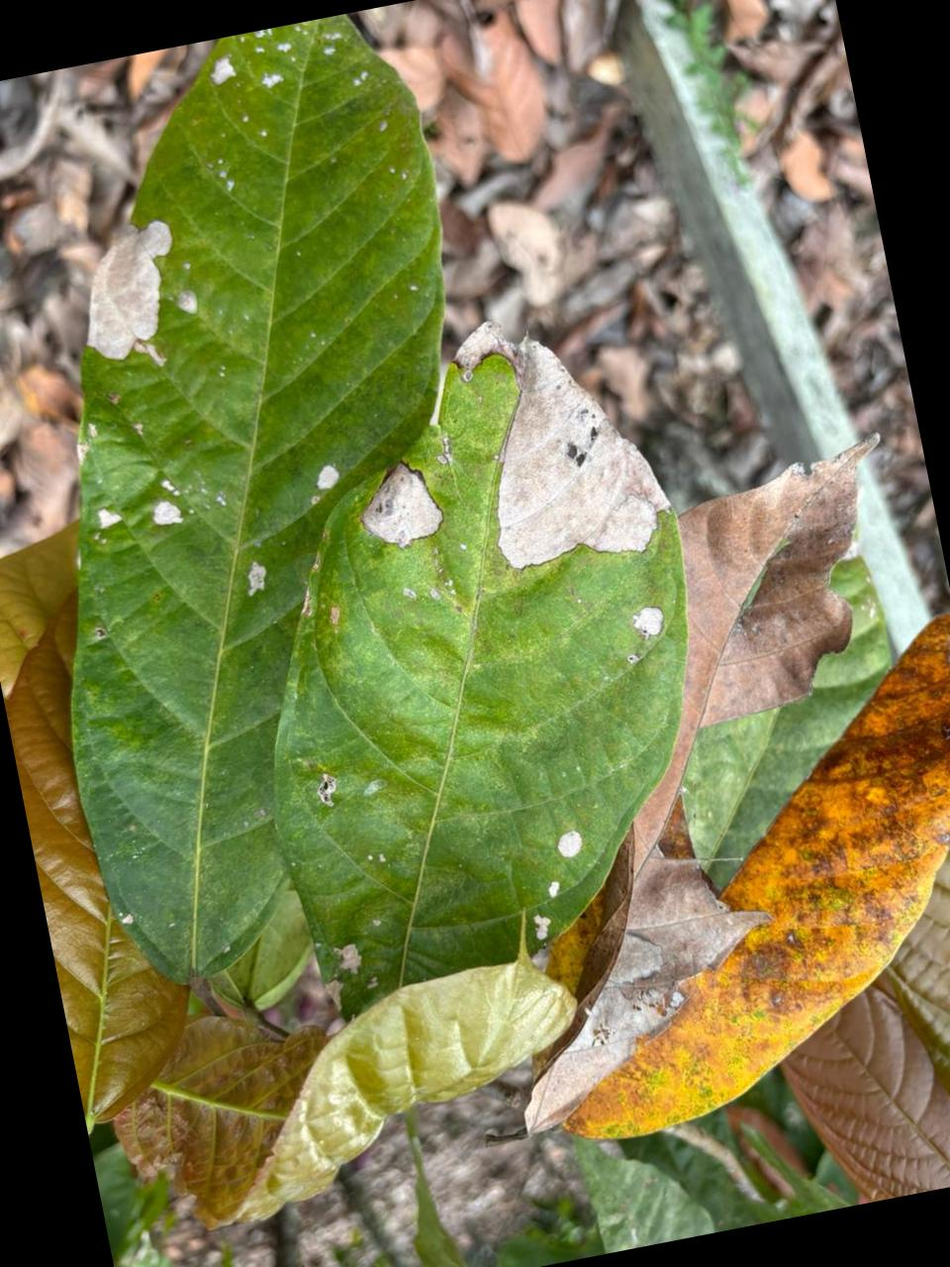Fosforo: (565, 616, 949, 1137)
Potasio: (75, 15, 438, 977), (275, 340, 687, 1015)
